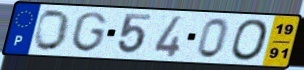0: (195, 16, 231, 60)
4: (153, 14, 183, 59)
5: (116, 12, 154, 56)
G: (69, 10, 110, 54)
O: (230, 17, 271, 62), (32, 8, 73, 53)
